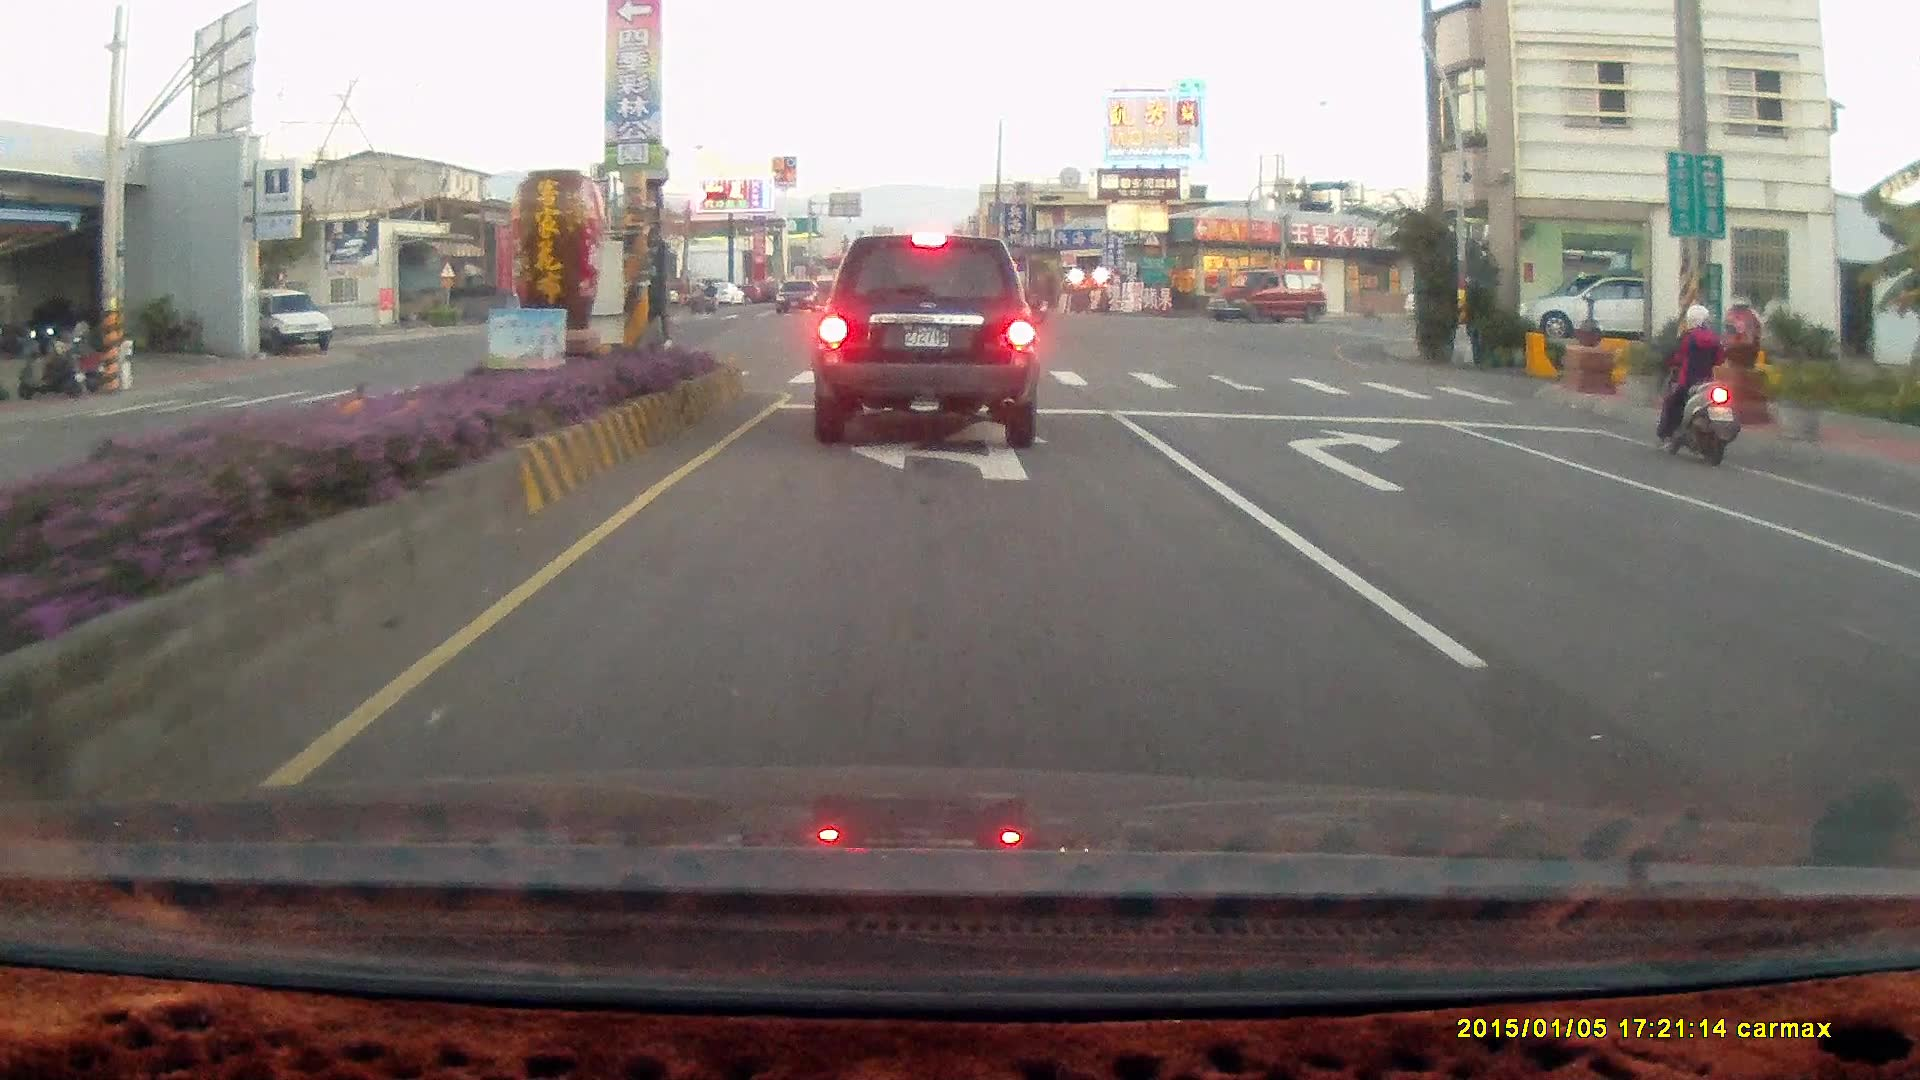rider: (1655, 300, 1738, 465), (1018, 270, 1051, 325)
vehicle: (809, 234, 1040, 449), (1515, 270, 1691, 342), (1896, 493, 1920, 836), (1538, 278, 1661, 340), (1201, 269, 1325, 323), (1210, 268, 1334, 322), (238, 287, 335, 355), (1883, 528, 1920, 690)
